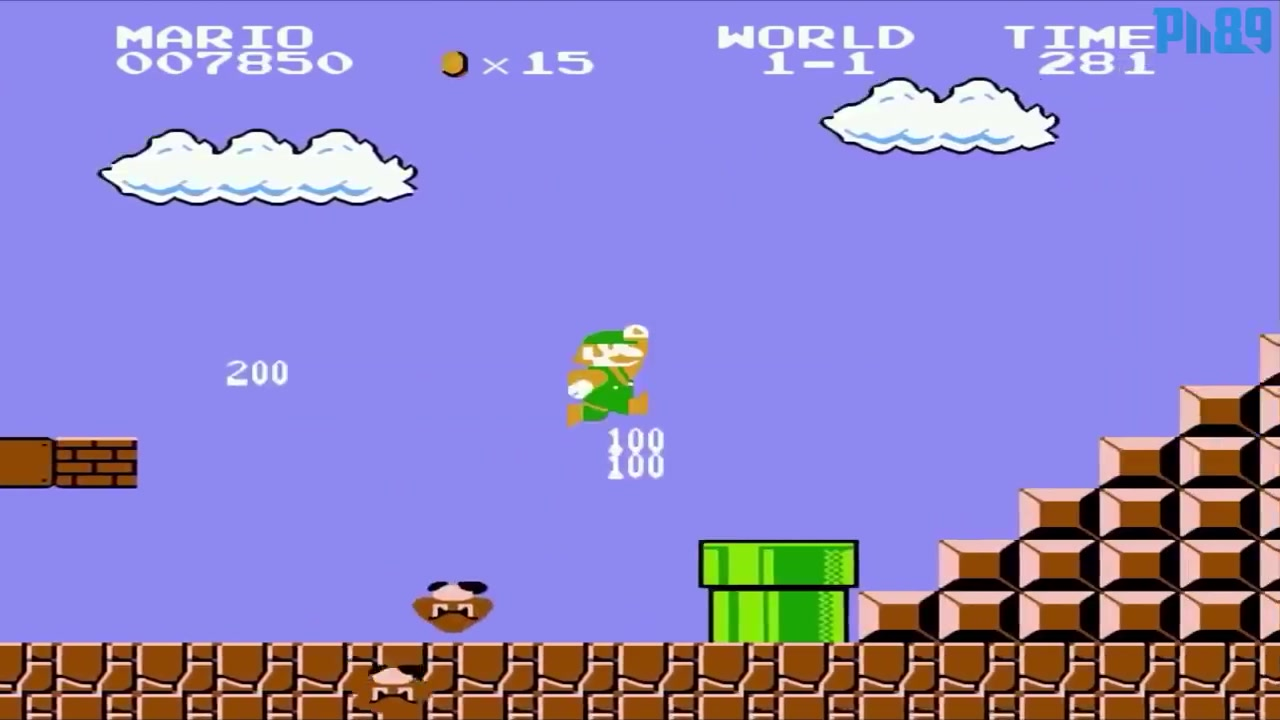mario: (549, 322, 679, 432)
